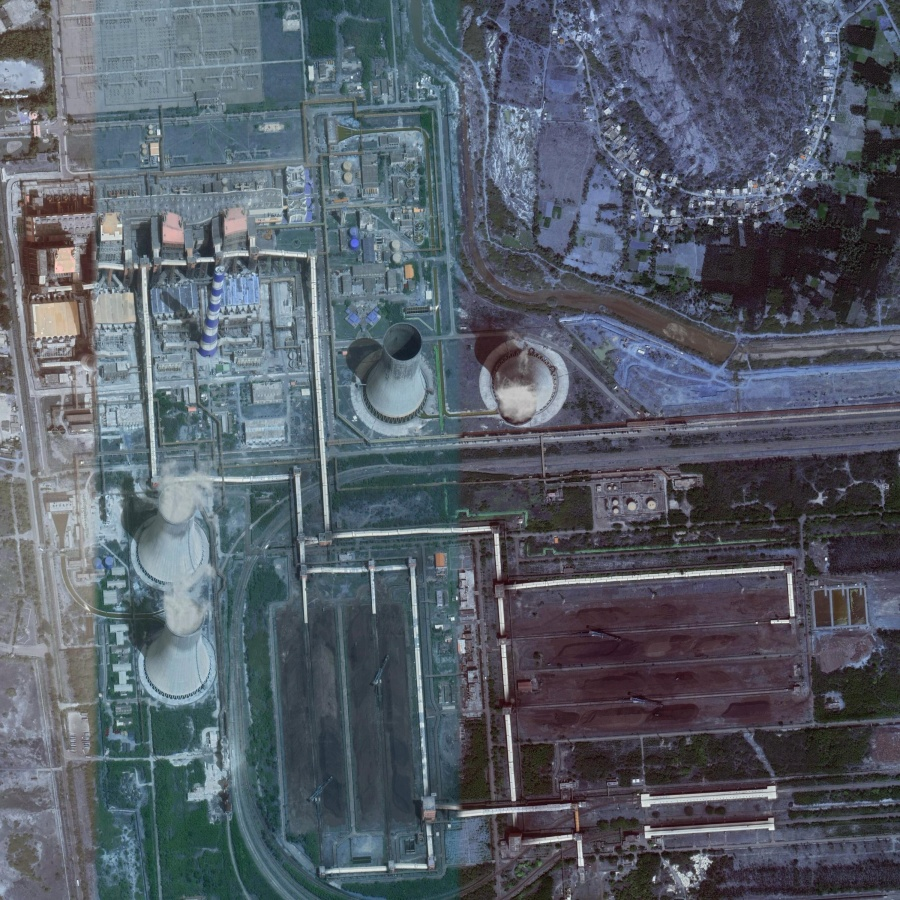PowerPlant: (102, 244, 814, 880)
